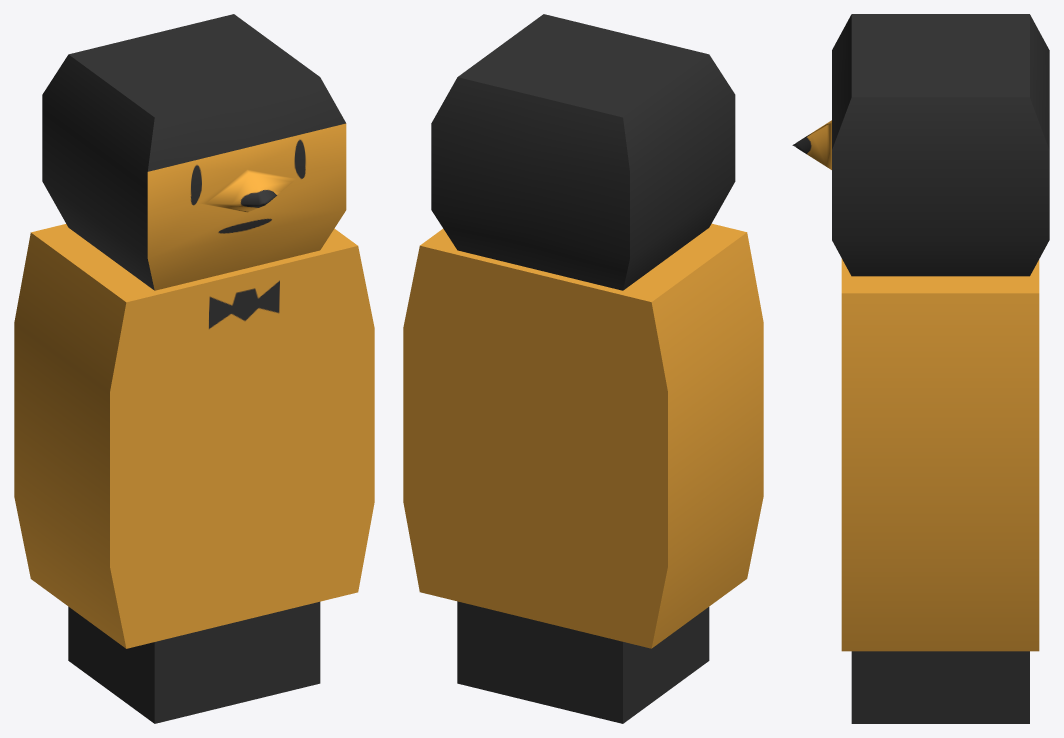
Rendered from user.glb.
3 renders of one model, left to right at view 1: azimuth 30°, elevation 25°; view 2: azimuth 150°, elevation 25°; view 3: azimuth 270°, elevation 25°, orthographic. The views are drawn at different scales.
Visible parts, largest first — view 1: pCube1; view 2: pCube1; view 3: pCube1.
Boxes of the visible parts, x1,y1,x2,y2 form: pCube1: (14, 14, 374, 723); pCube1: (403, 14, 763, 723); pCube1: (792, 14, 1049, 723).
Bounding box in the file's own units: 1.6 × 3.5 × 1.3.
1 material, 1 textured.
